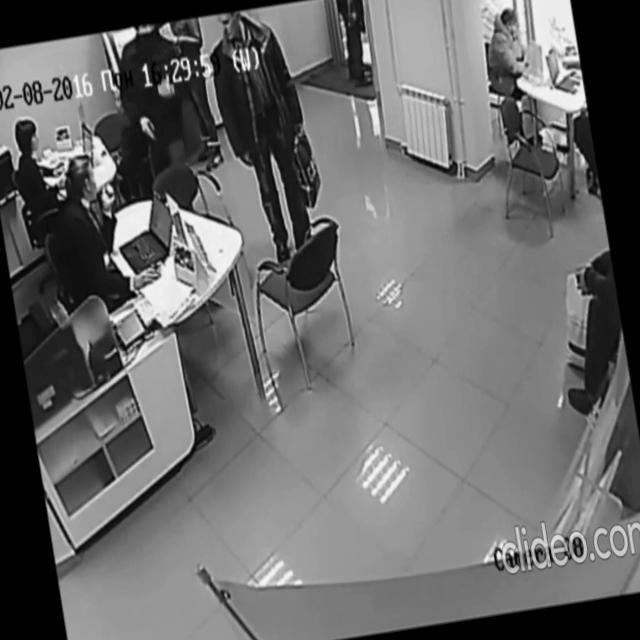gun: (146, 115, 164, 152)
person: (202, 1, 326, 272), (45, 143, 164, 313), (479, 4, 546, 154), (8, 112, 77, 235)
person with a gun: (110, 20, 212, 229)
